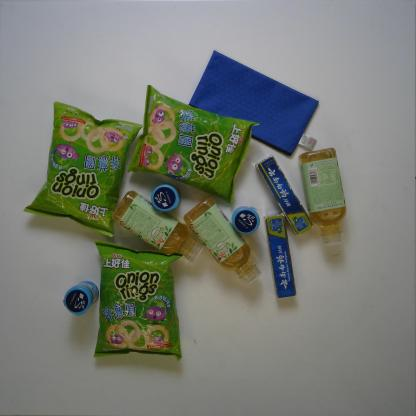Drink: (183, 195, 262, 286), (110, 190, 205, 264), (297, 148, 348, 246)
Gum: (62, 280, 99, 317), (231, 206, 260, 235), (152, 183, 180, 213)
Personal Hygiene: (253, 153, 315, 237), (263, 212, 296, 300)
Puffed Food: (23, 100, 145, 238), (127, 84, 261, 206), (94, 240, 184, 362)
Stationery: (188, 50, 320, 157)
